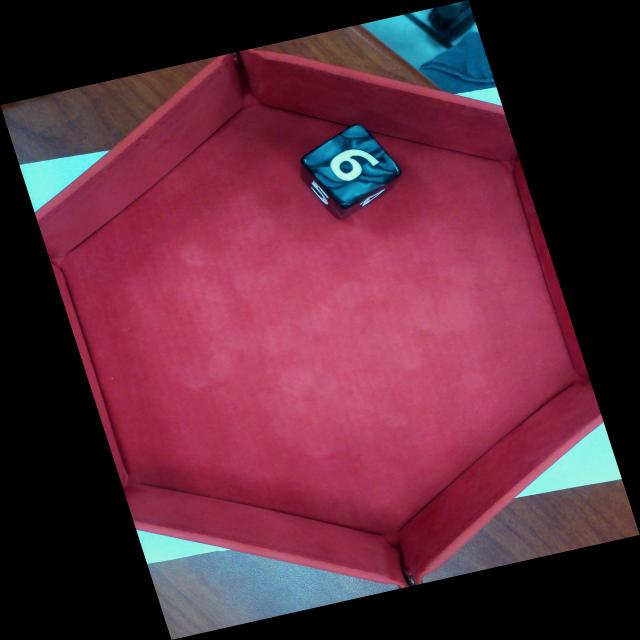dice: (297, 119, 408, 212)
